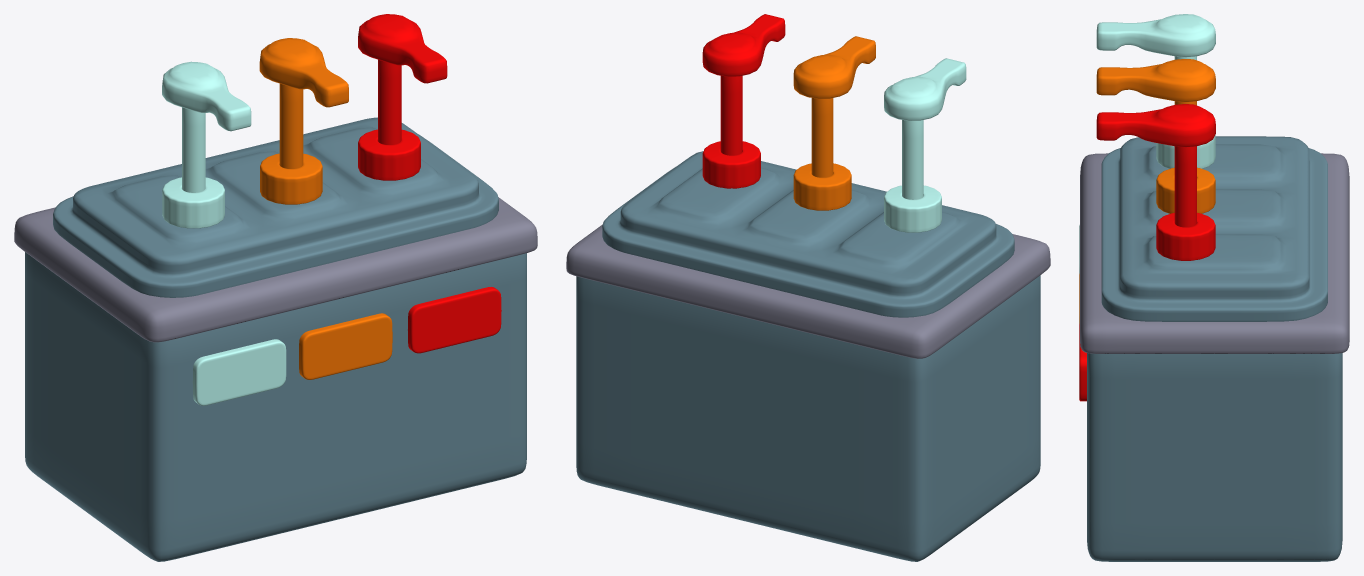
The model's file is Condiment Dispenser.fbx.
3 views of the same model, side by side, from view 1: azimuth 30°, elevation 25°; view 2: azimuth 150°, elevation 25°; view 3: azimuth 270°, elevation 25° (orthographic). The views are drawn at different scales.
Parts seen in each view (by area): view 1: body, cap, lid, name_plate_3, name_plate_2, name_plate_1, head_1, head_2, head_3, screw_edge_3, screw_edge_2, screw_edge (+3 smaller); view 2: body, cap, lid, head_1, head_2, head_3, screw_edge, screw_edge_2, screw_edge_3, nozzel_3, nozzel_2, nozze_1; view 3: body, cap, lid, head_3, head_1, head_2, screw_edge, nozzel_3, screw_edge_2, screw_edge_3, name_plate_1.
Part boxes in pixels (box(x1,y1,x2,y2)): body: box(25, 252, 526, 561); cap: box(53, 117, 498, 297); lid: box(14, 197, 537, 342); name_plate_3: box(192, 339, 286, 405); name_plate_2: box(299, 313, 392, 379); name_plate_1: box(408, 287, 501, 353); head_1: box(358, 14, 447, 83); head_2: box(259, 38, 348, 107); head_3: box(162, 61, 251, 131); screw_edge_3: box(162, 177, 224, 228); screw_edge_2: box(260, 153, 322, 204); screw_edge: box(358, 129, 420, 180); body: box(576, 275, 1040, 561); cap: box(602, 151, 1014, 317); lid: box(566, 224, 1050, 358); head_1: box(702, 14, 785, 76); head_2: box(793, 36, 875, 98); head_3: box(884, 58, 966, 120); screw_edge: box(702, 141, 760, 188); screw_edge_2: box(793, 163, 851, 210); screw_edge_3: box(884, 185, 941, 232); nozzel_3: box(720, 75, 742, 155); nozzel_2: box(811, 98, 833, 177); nozze_1: box(902, 120, 923, 199); body: box(1087, 353, 1342, 561); cap: box(1101, 136, 1327, 321); lid: box(1080, 153, 1349, 353); head_3: box(1096, 14, 1215, 57); head_1: box(1096, 104, 1215, 147); head_2: box(1096, 59, 1215, 101); screw_edge: box(1156, 213, 1215, 260); nozzel_3: box(1174, 146, 1196, 227); screw_edge_2: box(1156, 167, 1215, 213); screw_edge_3: box(1156, 135, 1215, 168); name_plate_1: box(1079, 323, 1086, 401).
Size of the model in its own units: 2.66 by 2.85 by 1.68.
